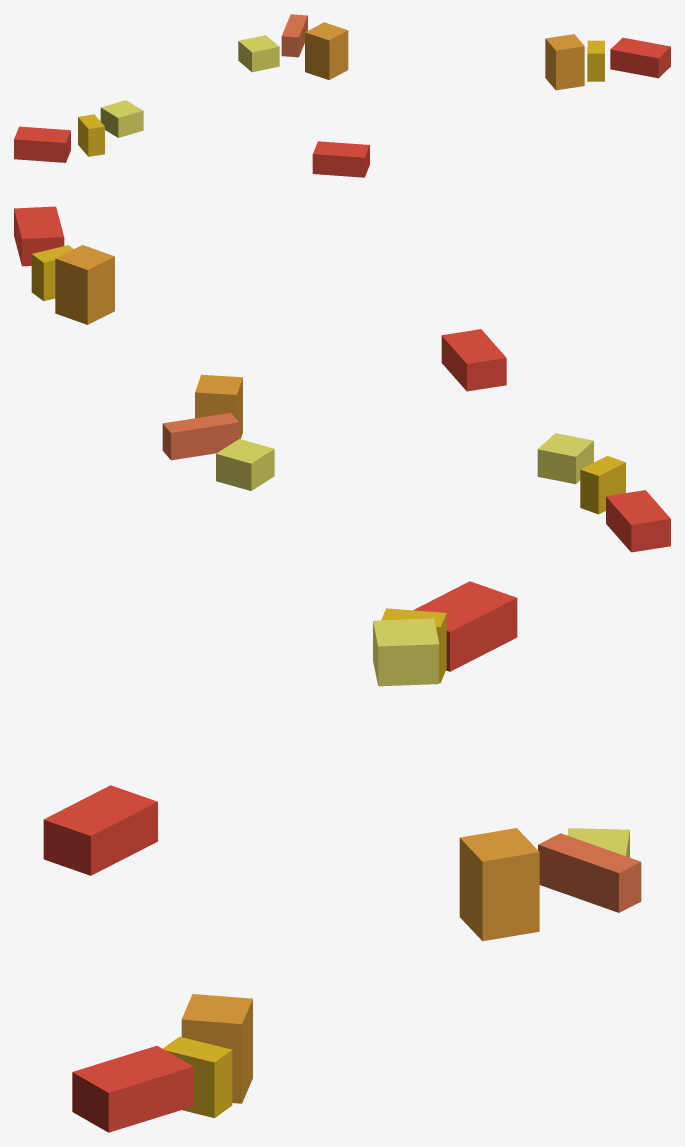
File: Lvl03_Prototype.fbx
3 views of the same model, one above another, from view 1: azimuth 30°, elevation 25°; view 2: azimuth 150°, elevation 25°; view 3: azimuth 270°, elevation 25° (orthographic). The views are drawn at different scales.
Parts seen in each view (by area): view 1: HouseSET_lvl03; view 2: HouseSET_lvl03; view 3: HouseSET_lvl03.
Boxes of the visible parts, box(x1,y1,x2,y2) form: HouseSET_lvl03: box(14, 14, 670, 177); HouseSET_lvl03: box(14, 206, 670, 552); HouseSET_lvl03: box(43, 581, 641, 1132).
Bounding box in the file's own units: 14899 × 1114 × 6808.
